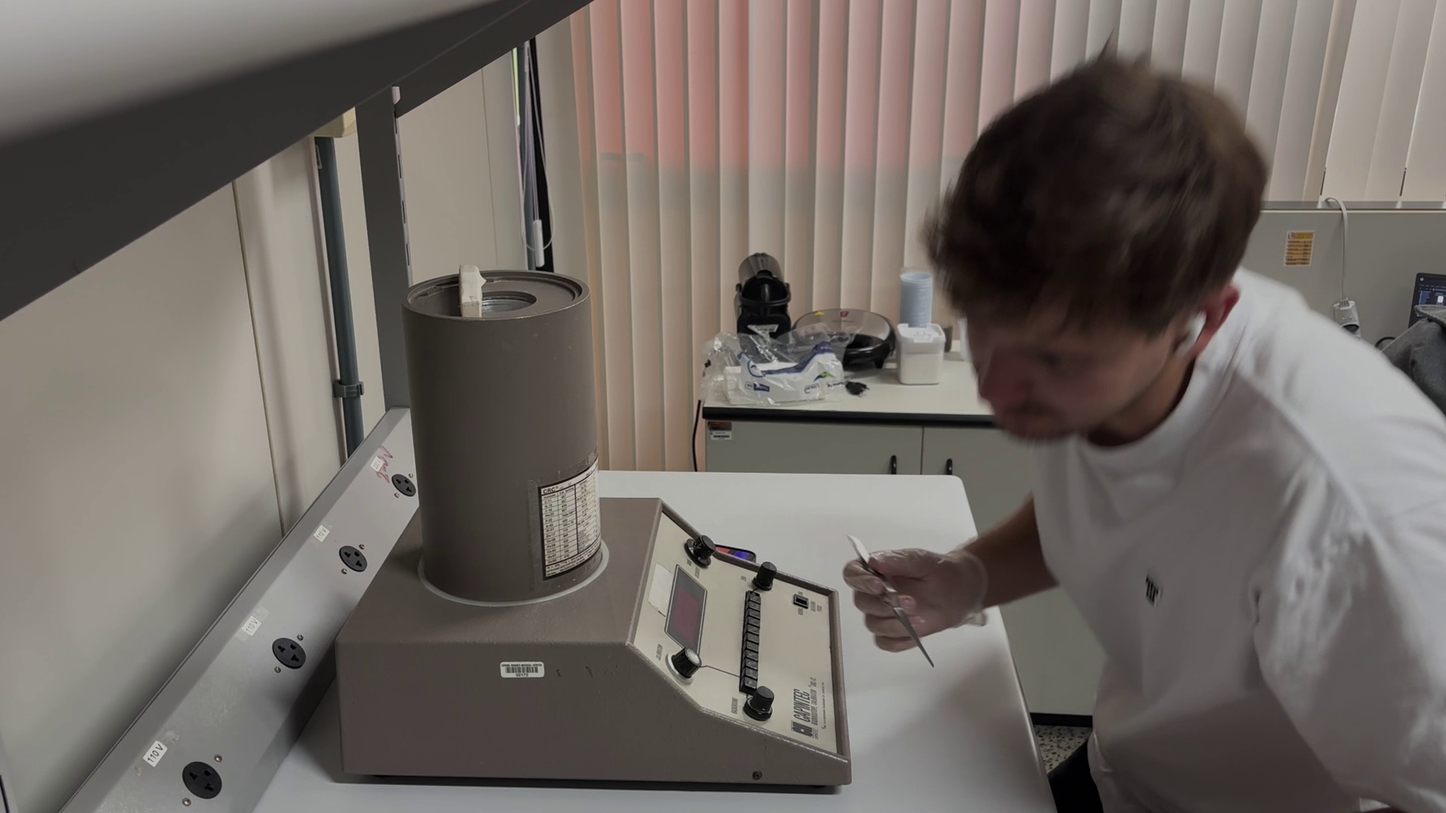Ativimetro: (398, 267, 609, 606)
Com_Luva: (841, 545, 992, 652)
